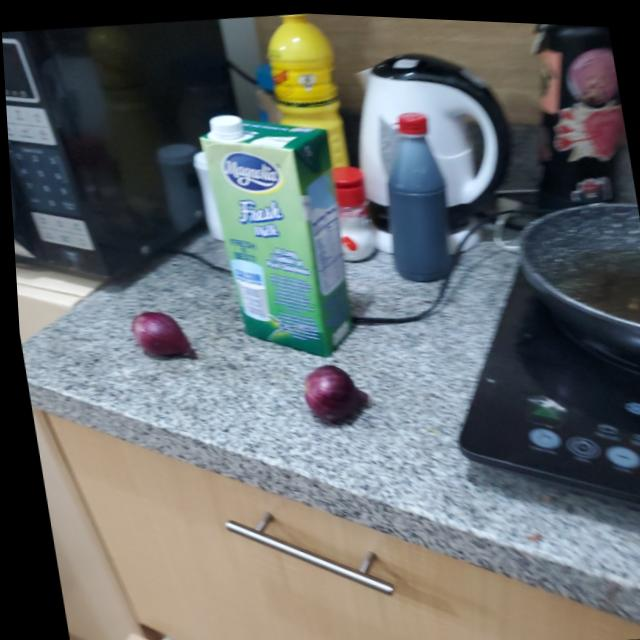milk: (194, 101, 365, 363)
onion: (292, 353, 369, 429), (123, 305, 193, 363)
